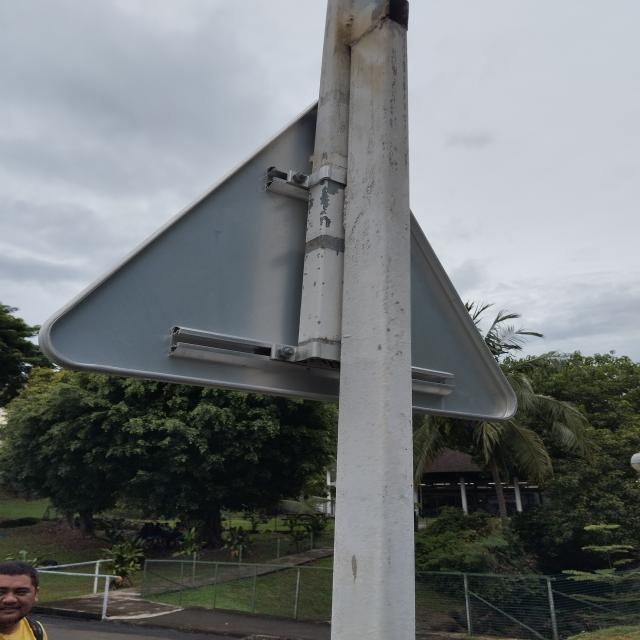Panneau: (14, 99, 530, 428)
